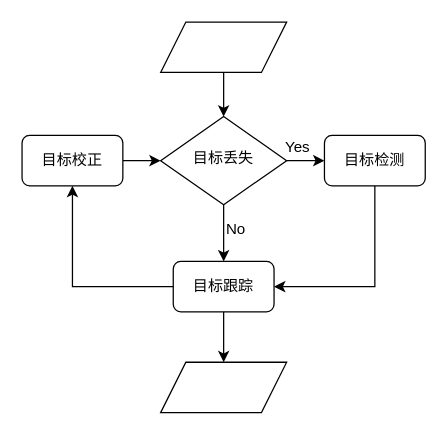
The diagram is 447 pixels wide and 435 high, and some of its shapes have lost their labels. Each missing label, with the centre of its shape:
"监视图像" goes at (223,46).
"目标输出" goes at (223,387).
